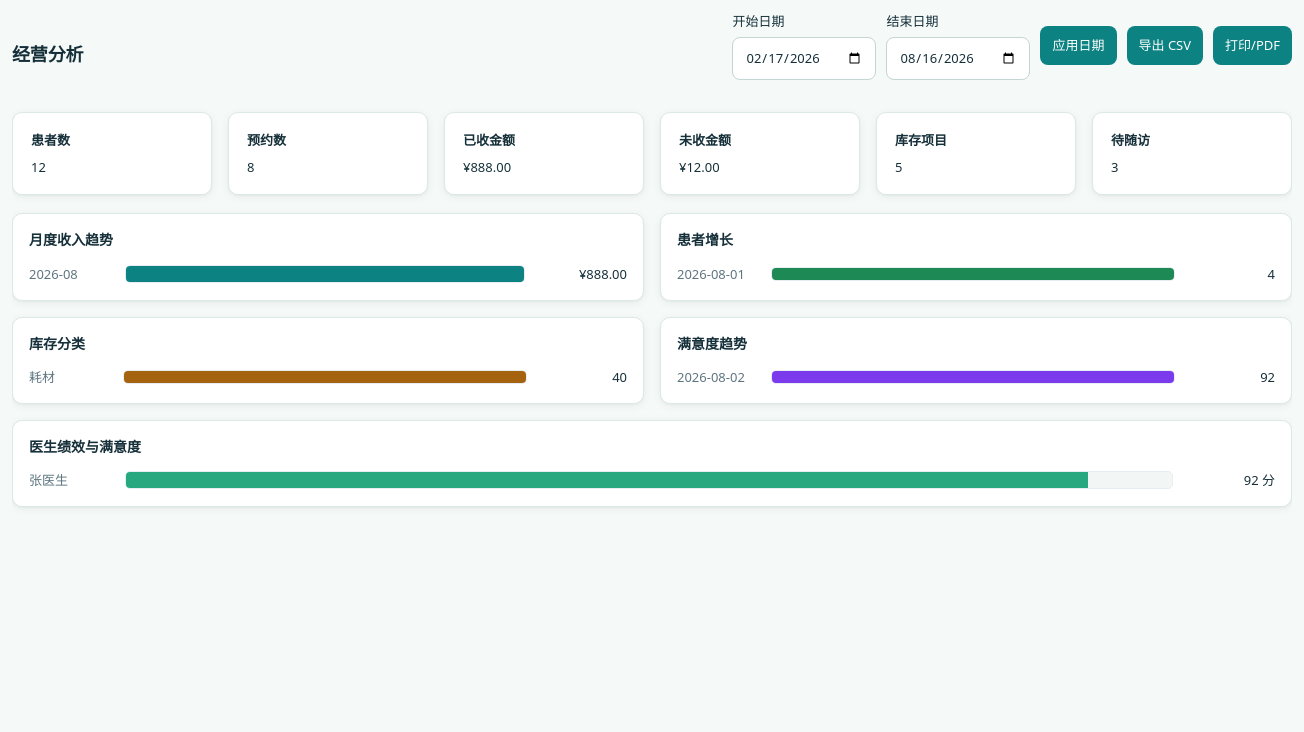
it: AnalyticsDashboardPage › shows an error when the print report fails
Expected: the heading "月度收入趋势" is shown, left=29, top=230, right=113, bottom=249
Click the button "打印/PDF". click: (1252, 46)
box: left=1213, top=26, right=1292, bottom=65
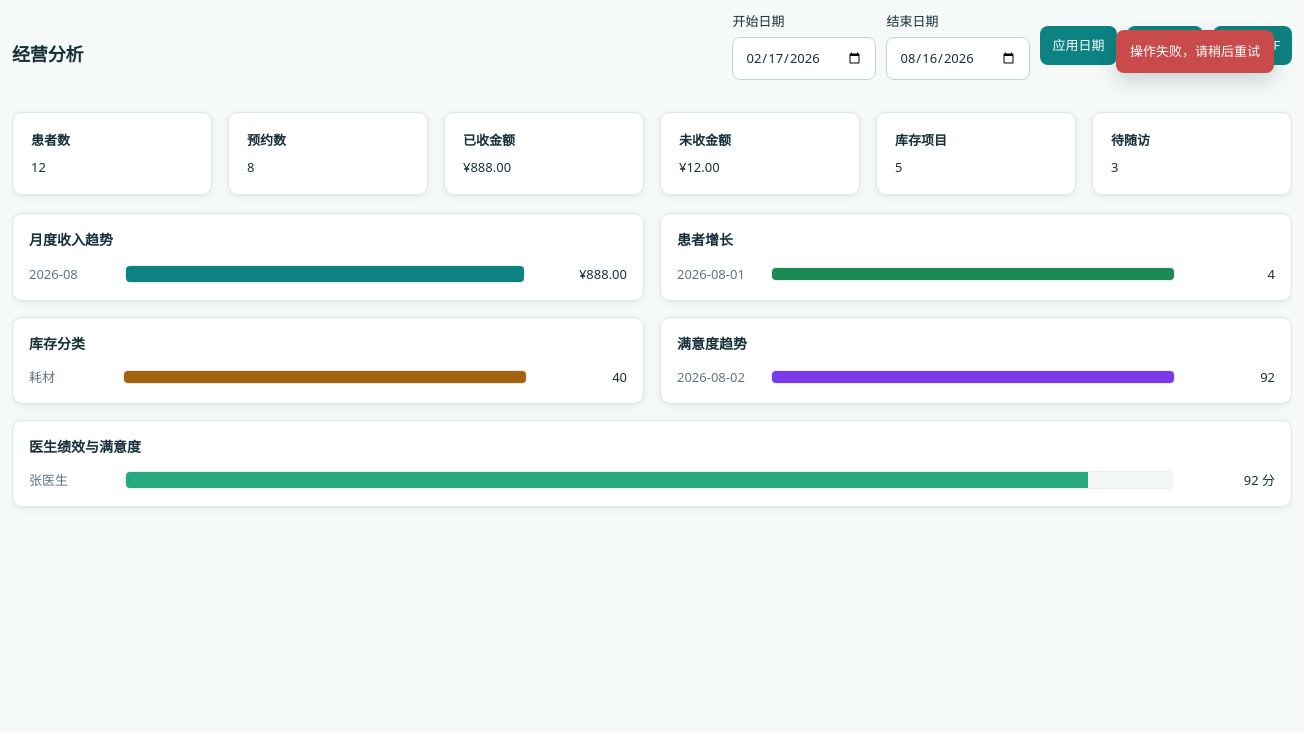
Expected: the text "操作失败，请稍后重试" is shown, left=1116, top=30, right=1274, bottom=73
